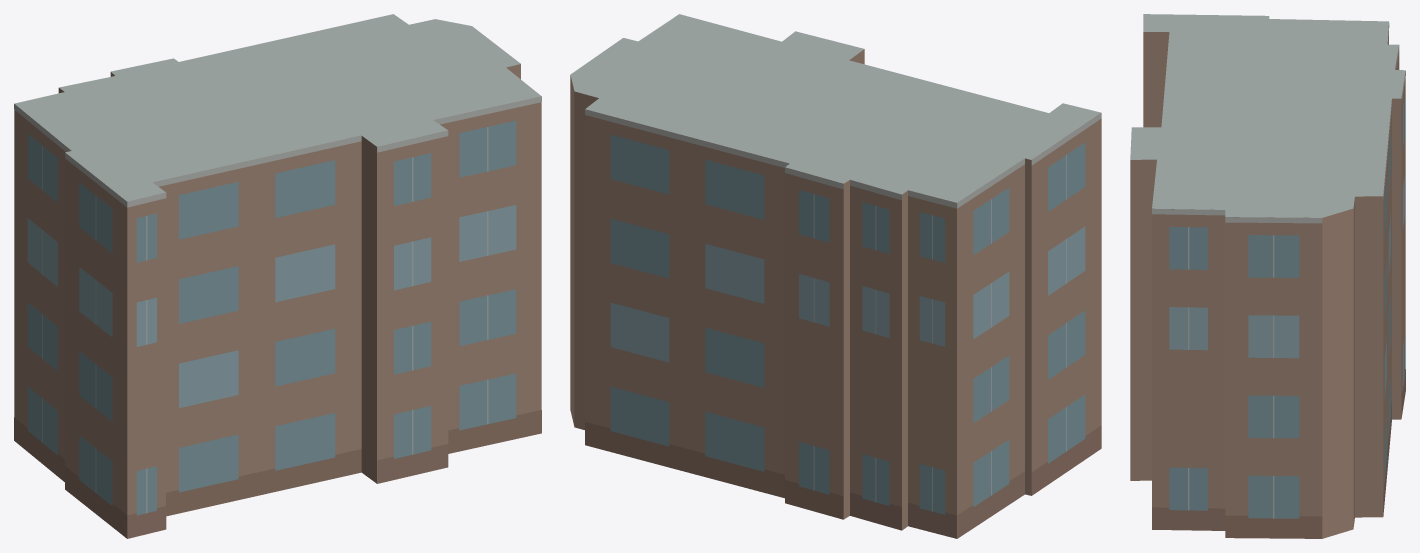
The model's file is survey-upis-32589146.glb.
3 views of the same model, side by side, from view 1: azimuth 30°, elevation 25°; view 2: azimuth 150°, elevation 25°; view 3: azimuth 270°, elevation 25° (orthographic). The views are drawn at different scales.
Visible parts, largest first — view 1: survey-upis-32589146.tmp; view 2: survey-upis-32589146.tmp; view 3: survey-upis-32589146.tmp.
Part boxes in pixels (left/top/right/bottom): survey-upis-32589146.tmp: left=14, top=14, right=541, bottom=538; survey-upis-32589146.tmp: left=570, top=14, right=1101, bottom=538; survey-upis-32589146.tmp: left=1130, top=14, right=1405, bottom=538.
Bounding box in the file's own units: 19.36 × 14.2 × 11.06.
